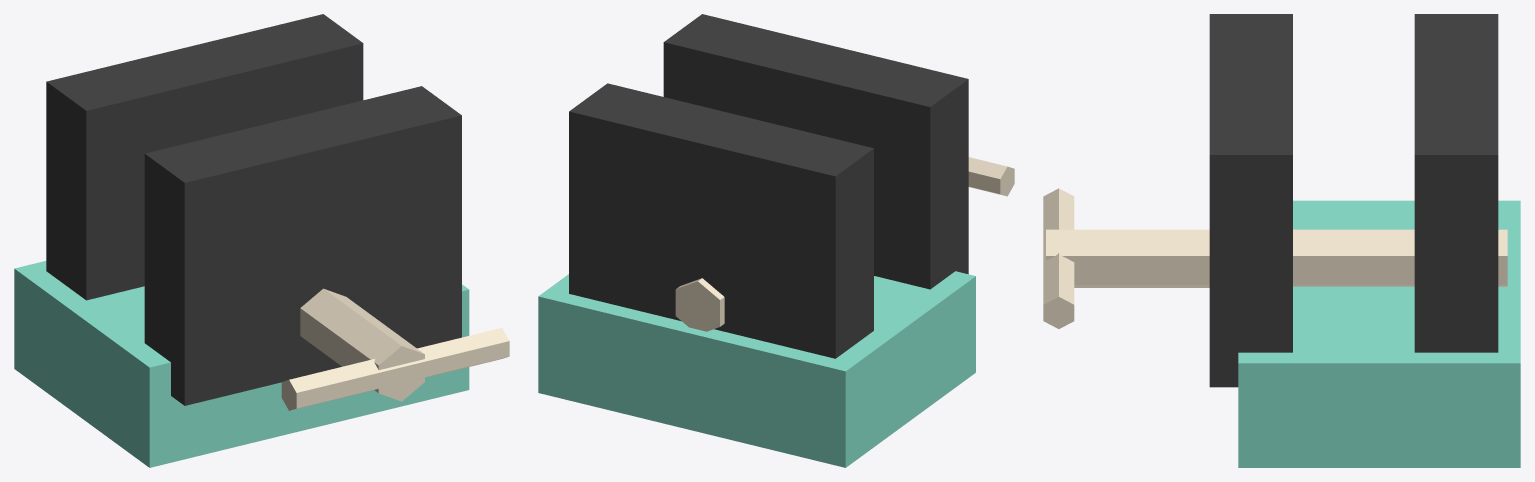
The picture shows the model from 3 angles, left to right: view 1: azimuth 30°, elevation 25°; view 2: azimuth 150°, elevation 25°; view 3: azimuth 270°, elevation 25°; orthographic projection. The views are drawn at different scales.
Visible parts, largest first — view 1: Moving jaw, Fixed jaw, Base, Handle, Lead screw; view 2: Fixed jaw, Base, Moving jaw, Lead screw, Handle; view 3: Base, Moving jaw, Fixed jaw, Lead screw, Handle.
Boxes of the visible parts, left/top/right/bottom form: Moving jaw: left=144, top=86, right=461, bottom=405; Fixed jaw: left=46, top=14, right=363, bottom=300; Base: left=14, top=261, right=469, bottom=467; Handle: left=281, top=328, right=509, bottom=410; Lead screw: left=300, top=288, right=424, bottom=401; Fixed jaw: left=569, top=83, right=873, bottom=358; Base: left=538, top=271, right=975, bottom=467; Moving jaw: left=663, top=14, right=968, bottom=289; Lead screw: left=675, top=278, right=724, bottom=331; Handle: left=968, top=157, right=1014, bottom=196; Base: left=1238, top=200, right=1520, bottom=467; Moving jaw: left=1209, top=14, right=1292, bottom=387; Fixed jaw: left=1414, top=14, right=1498, bottom=352; Lead screw: left=1046, top=229, right=1507, bottom=287; Handle: left=1043, top=188, right=1074, bottom=328.
Bounding box in the file's own units: 30 × 26 × 37.21.
